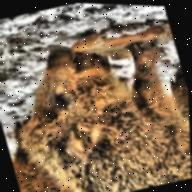boar: (0, 13, 192, 192)
